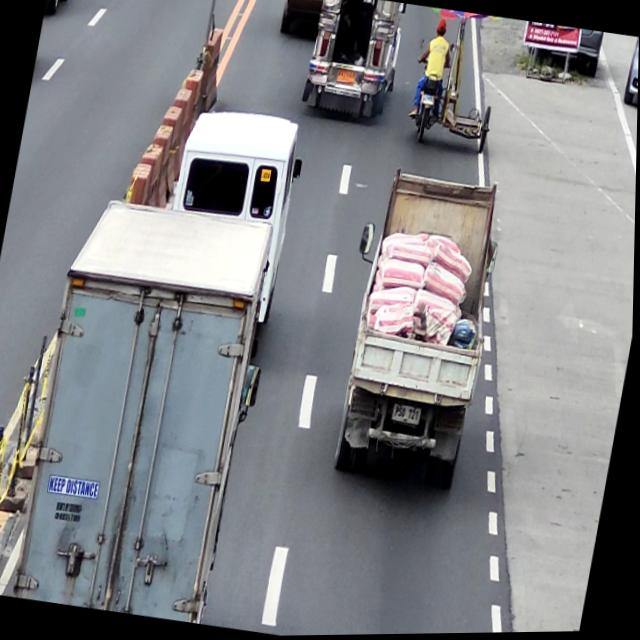Car: (153, 104, 310, 342), (276, 0, 328, 43), (622, 39, 639, 116)
Jeep: (300, 0, 406, 124)
License-Plate: (392, 403, 424, 427), (335, 70, 357, 87), (422, 94, 436, 106)
Tricycle: (406, 52, 502, 159)
Truck: (12, 196, 278, 628), (319, 164, 515, 501)
